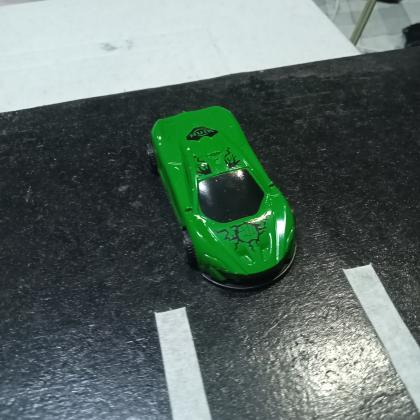Car: (144, 102, 300, 293)
